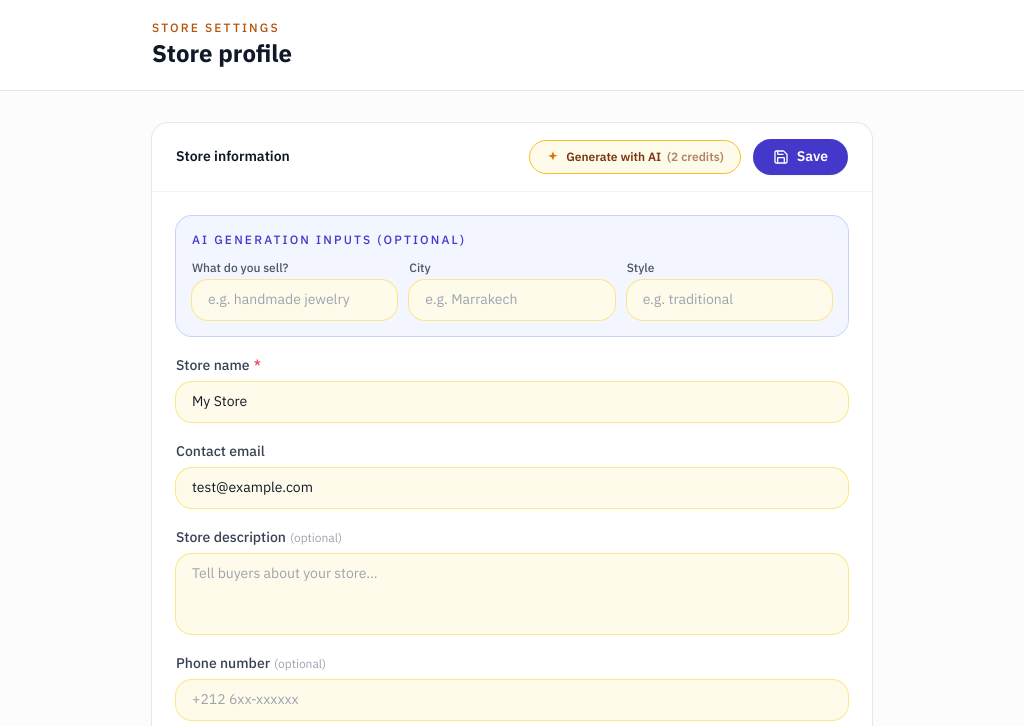
Scenario: StoreSettingsPage — AI store profile generation › shows generated store name ideas and slogan after AI generation
Check: the field labelled "Store name*" is shown, box [176,382,848,422]
Click the button "Generate with AI (2 credits)" at (635,157), box [529,140,741,174]
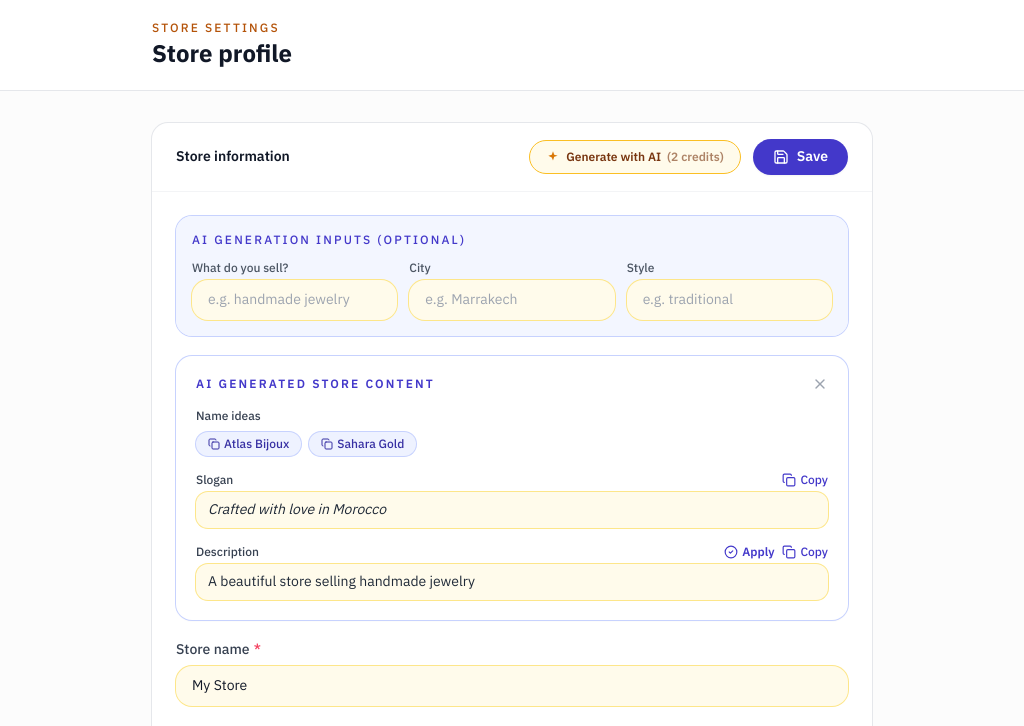
Check: the button "Atlas Bijoux" is shown, box [196,432,301,456]
